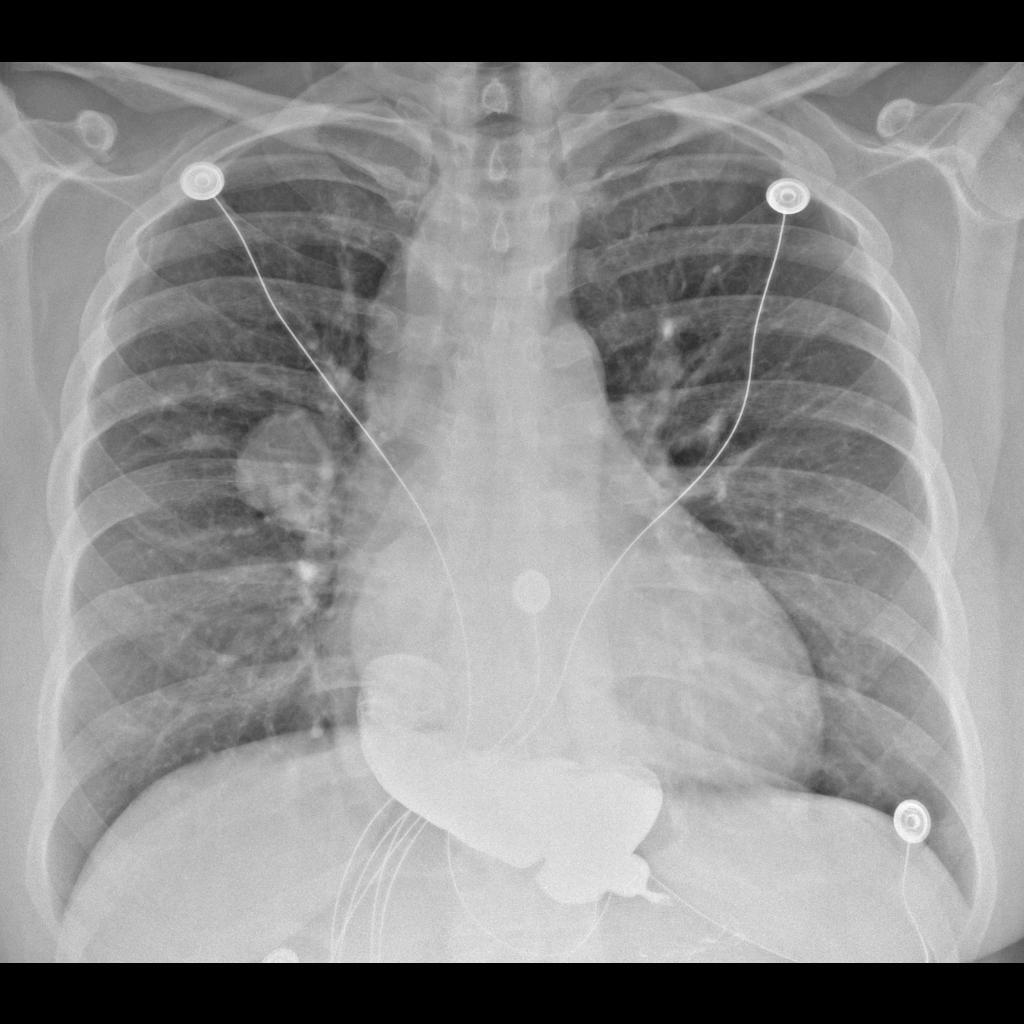Nodule: (227, 392, 347, 535)
